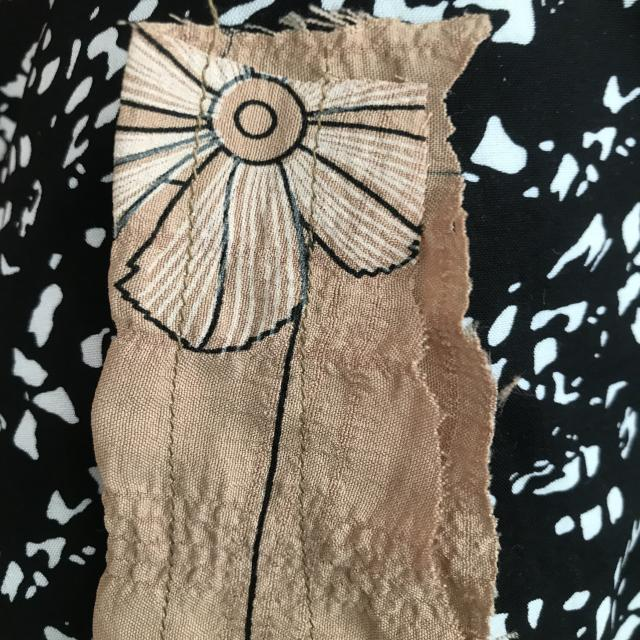good: (154, 358, 188, 540), (294, 437, 322, 616), (179, 190, 205, 300)
